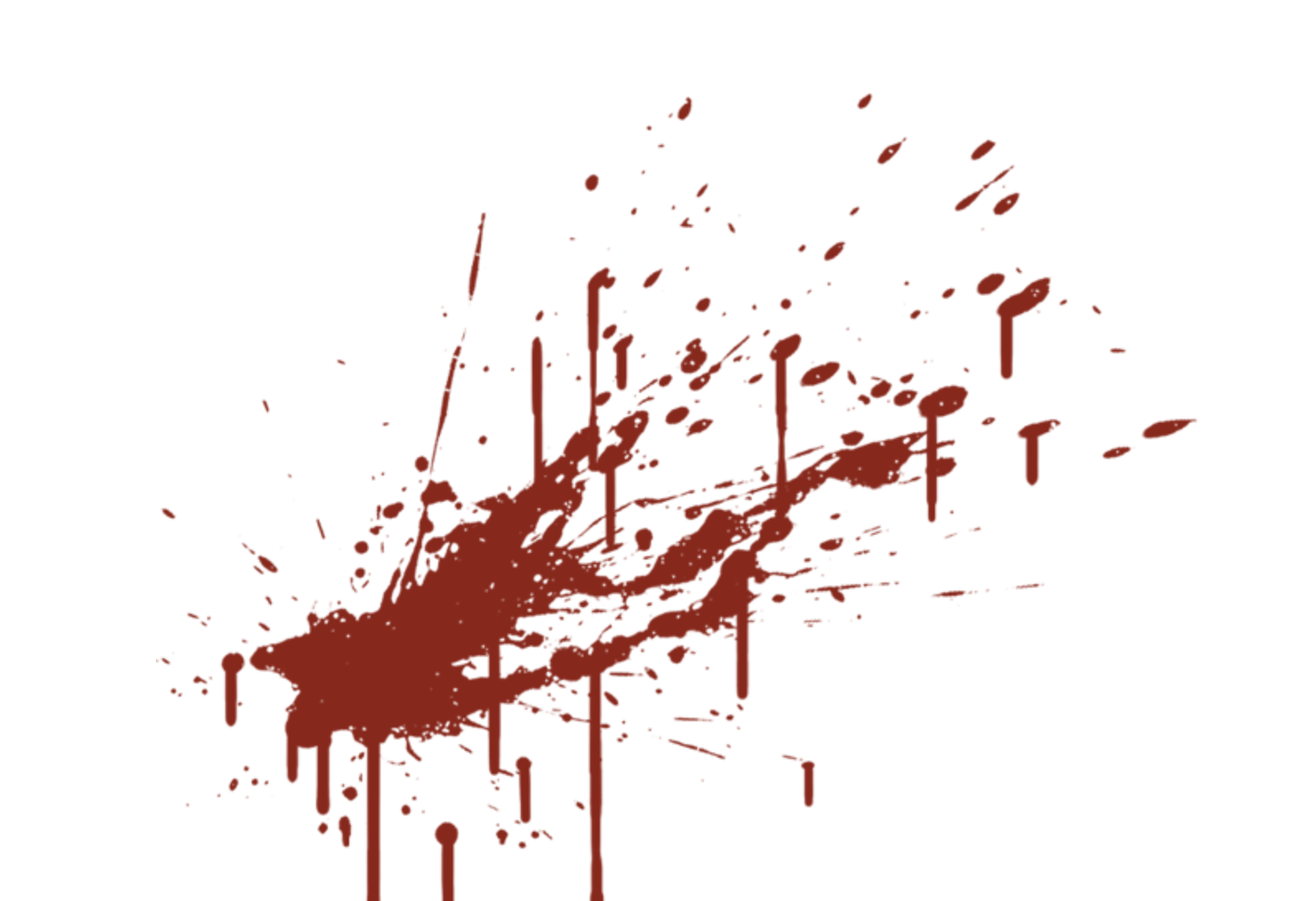blood_17.png: (125, 83, 1198, 901)
